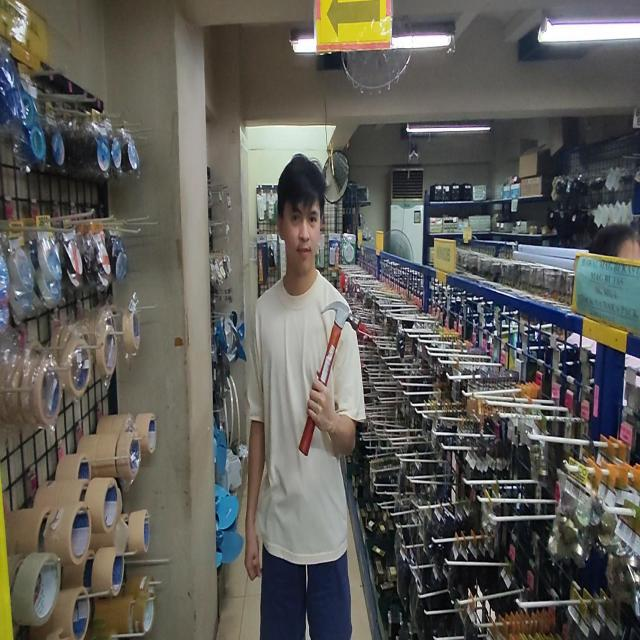hammer: (301, 300, 360, 456)
